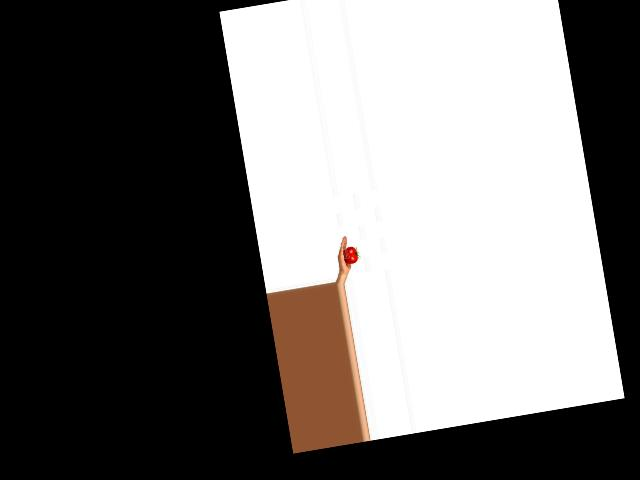tomato: (342, 245, 358, 264)
